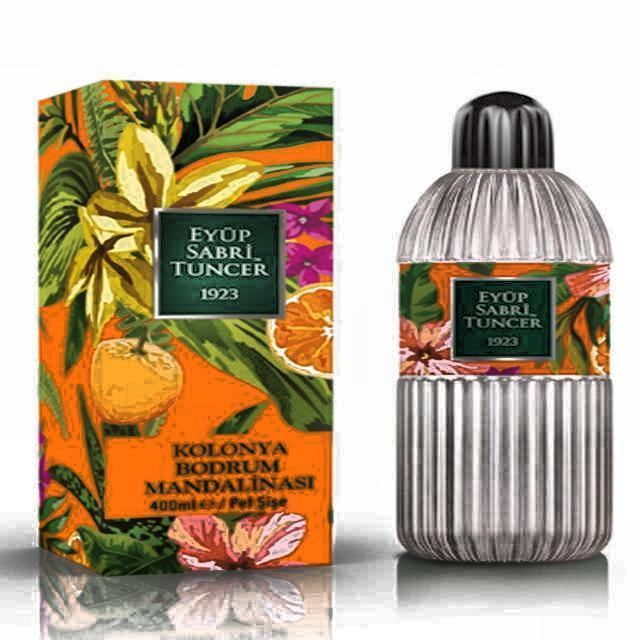cardboard: (35, 79, 335, 576)
plastic: (393, 92, 615, 567)
